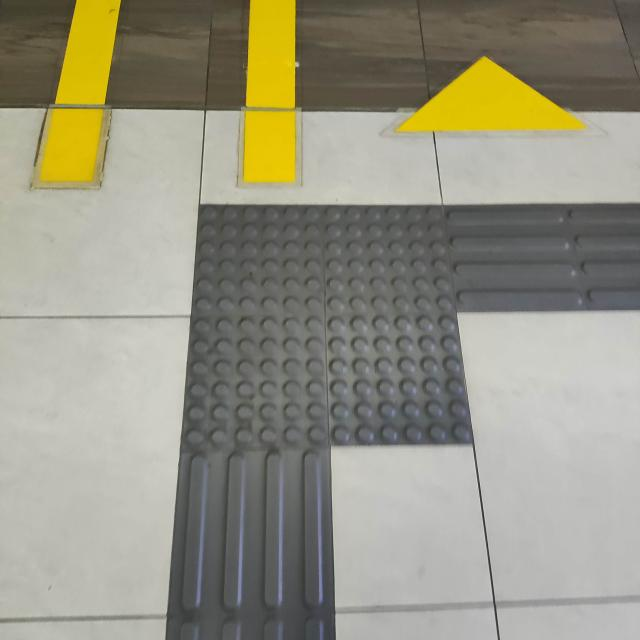kanan: (131, 155, 640, 506)
